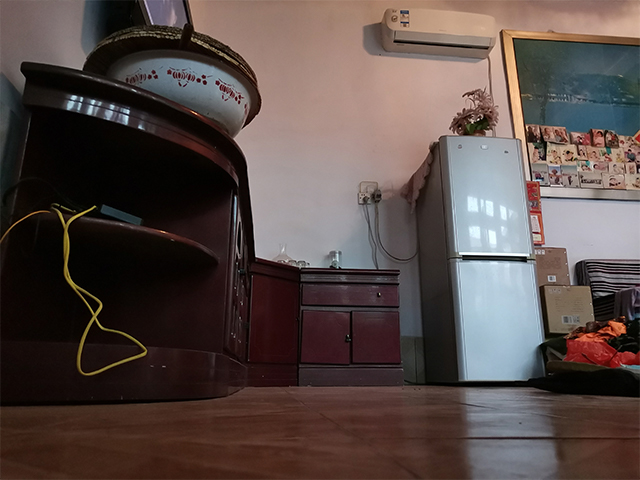cabinet: (1, 60, 405, 409)
